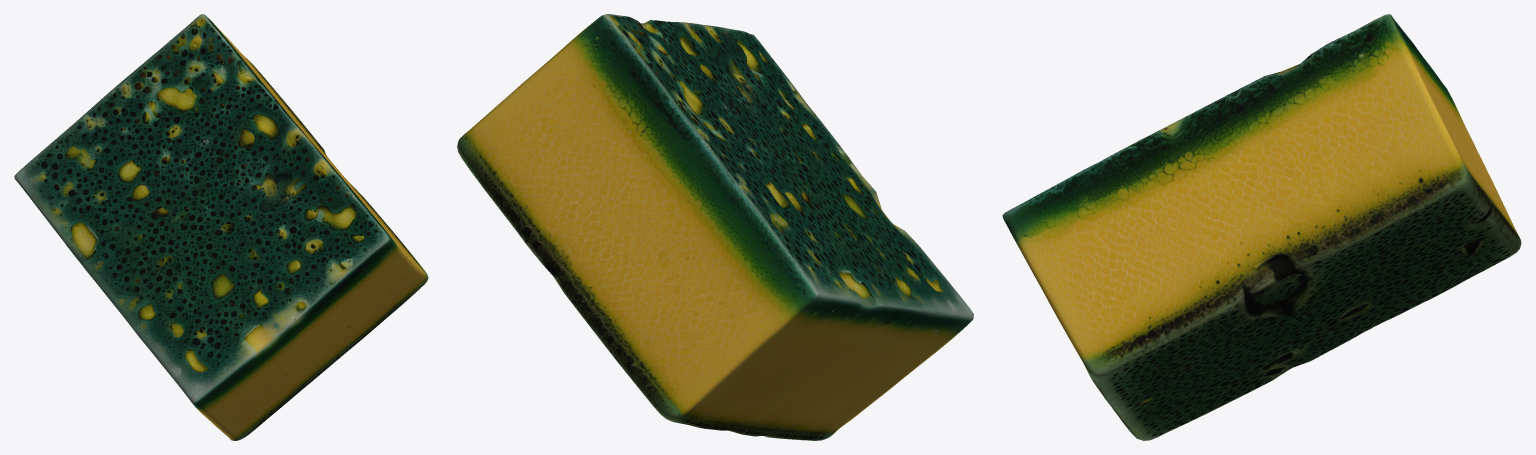
File: SM_09_Cleanprop.fbx
The picture shows the model from 3 angles, left to right: view 1: azimuth 30°, elevation 25°; view 2: azimuth 150°, elevation 25°; view 3: azimuth 270°, elevation 25°; orthographic projection. The views are drawn at different scales.
Parts seen in each view (by area): view 1: SM_09_Cleanprop; view 2: SM_09_Cleanprop; view 3: SM_09_Cleanprop.
Boxes of the visible parts, bbox=[...] form: SM_09_Cleanprop: bbox=[14, 14, 428, 440]; SM_09_Cleanprop: bbox=[457, 14, 973, 440]; SM_09_Cleanprop: bbox=[1002, 14, 1521, 440].
Size of the model in its own units: 177 by 210 by 207.
